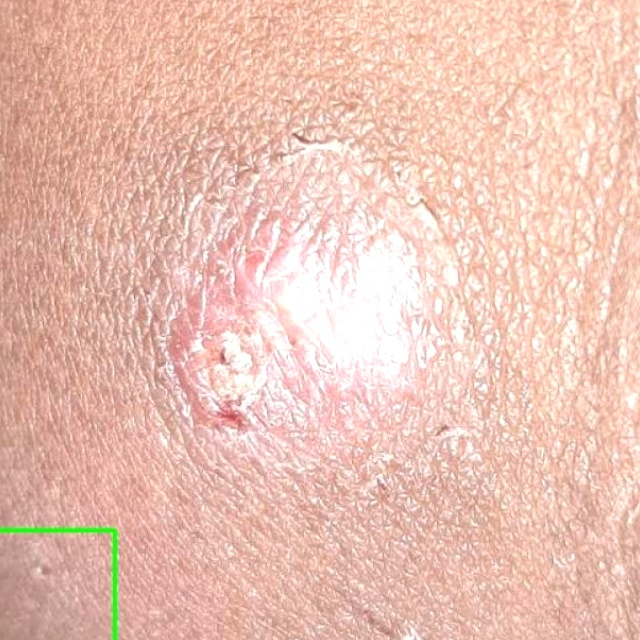Contact Dermatitis: (0, 530, 116, 639)
